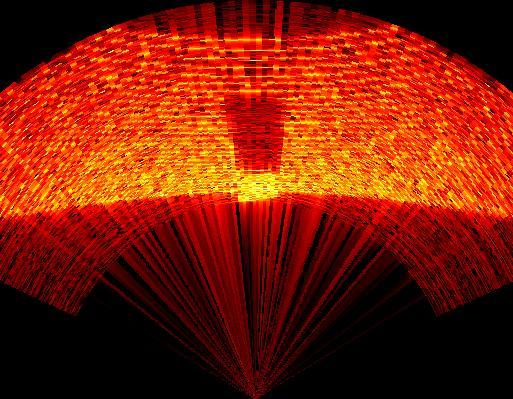box_crate: (224, 85, 293, 182)
